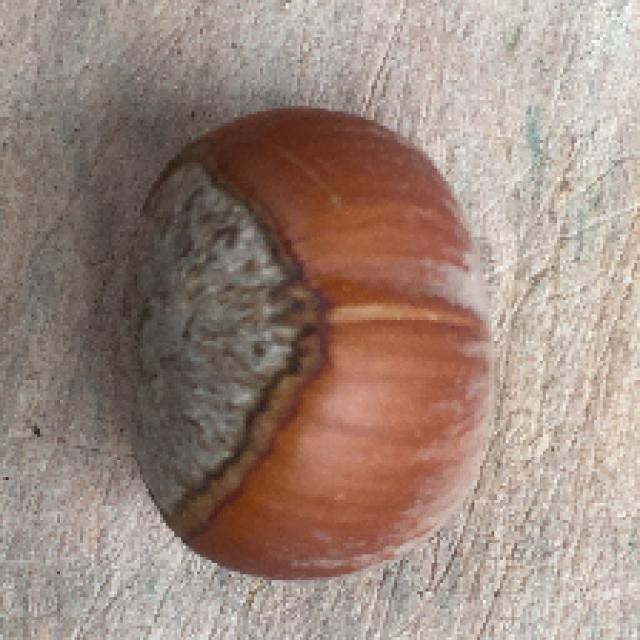qualityHazelnut: (86, 99, 505, 589)
